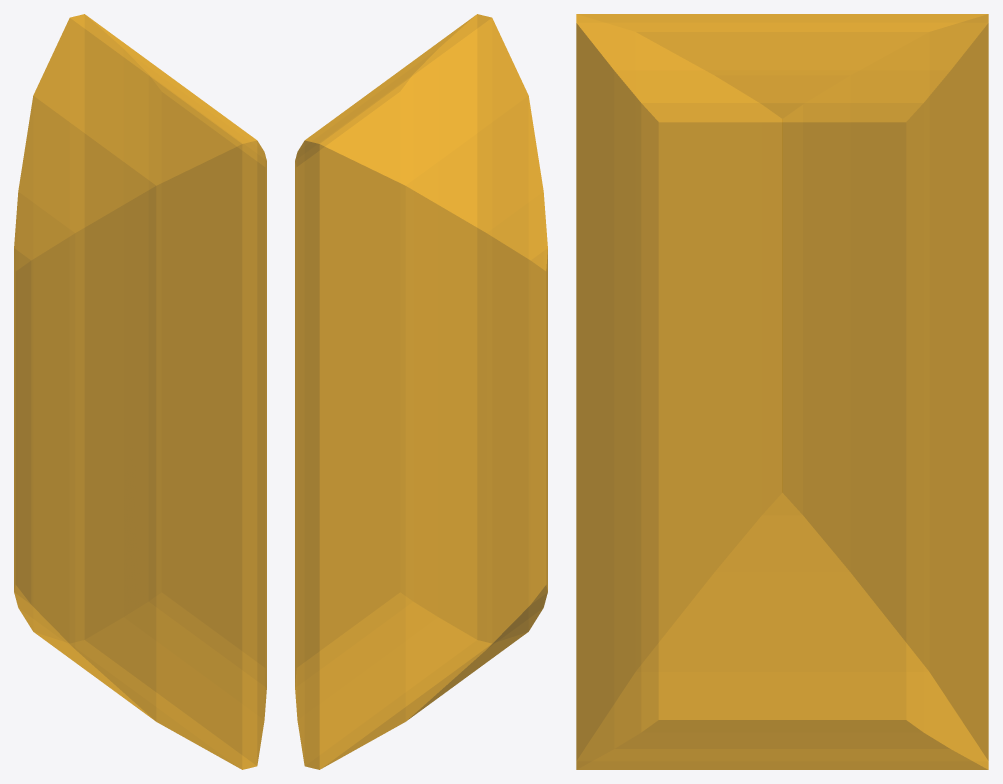
File: baguette citrine.glb
3 renders of one model, left to right at view 1: azimuth 30°, elevation 25°; view 2: azimuth 150°, elevation 25°; view 3: azimuth 270°, elevation 25°, orthographic. The views are drawn at different scales.
Visible parts, largest first — view 1: uploads_files_895467_baguette; view 2: uploads_files_895467_baguette; view 3: uploads_files_895467_baguette.
Part boxes in pixels (bbox=[...]): uploads_files_895467_baguette: bbox=[14, 14, 266, 769]; uploads_files_895467_baguette: bbox=[295, 14, 547, 769]; uploads_files_895467_baguette: bbox=[576, 14, 988, 769].
Size of the model in its own units: 0.6654 by 2.01 by 1.01.
